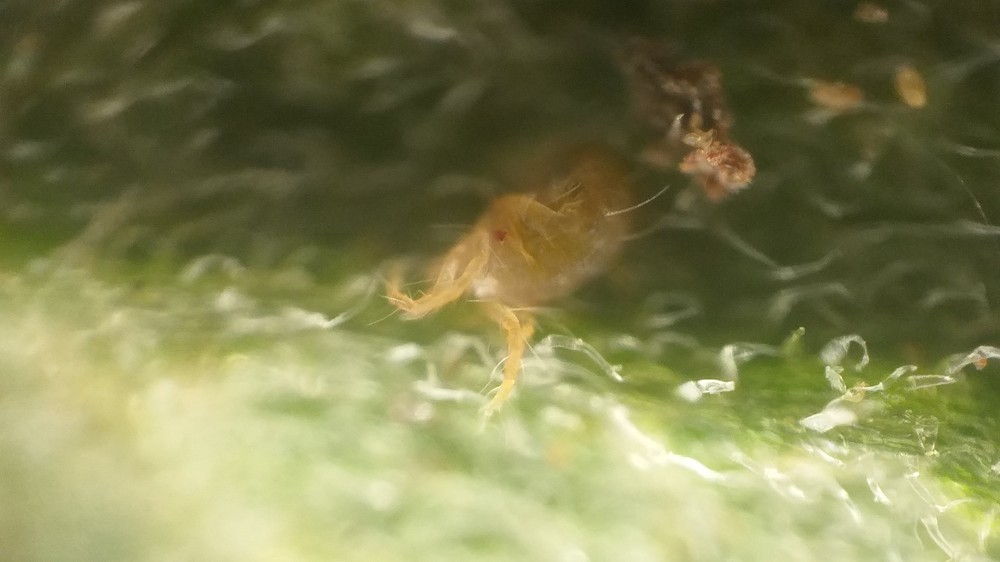Aracnido Rojo: (377, 123, 695, 424)
